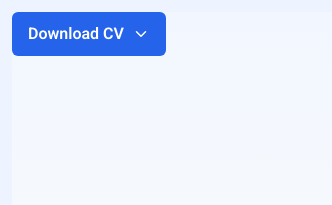
Test: CvDownload › toggles a named list of downloads
This screenshot has width=332, height=205.
Click the button "Download CV" at (89, 34), box x1=12 y1=12 x2=166 y2=56
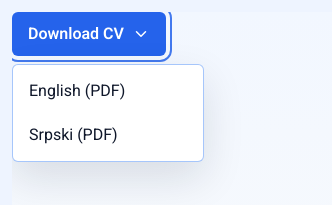
Click the button "Download CV" at (89, 34), box x1=12 y1=12 x2=166 y2=56
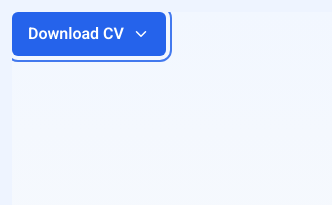
Expected: the link "English (PDF)" is gone
